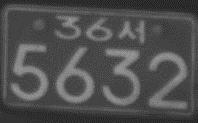2: (147, 50, 189, 111)
3: (101, 46, 141, 107), (53, 13, 81, 40)
5: (9, 42, 48, 101)
6: (55, 46, 95, 104), (85, 14, 114, 42)
서: (118, 19, 145, 45)
